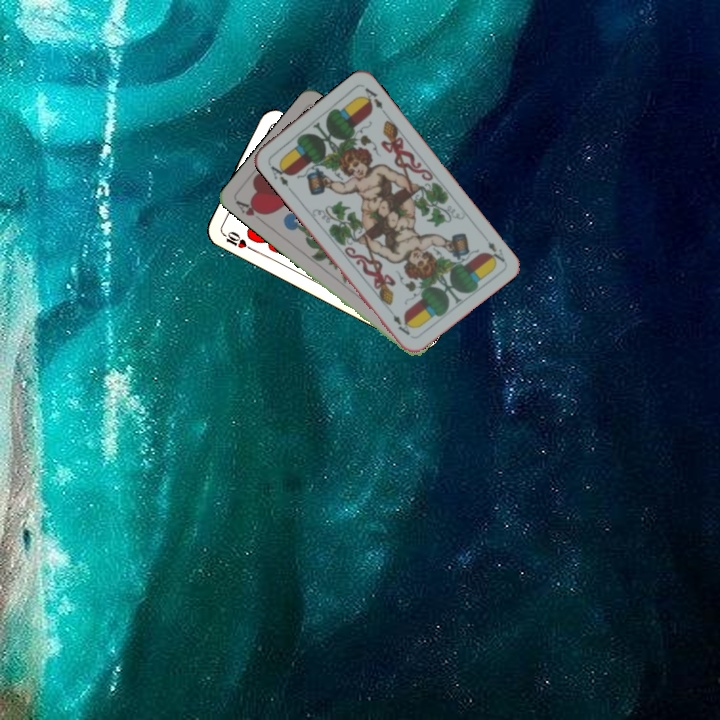EA: (264, 159, 292, 189), (482, 237, 507, 266)
H10: (217, 227, 255, 253)
HA: (232, 196, 269, 226)
